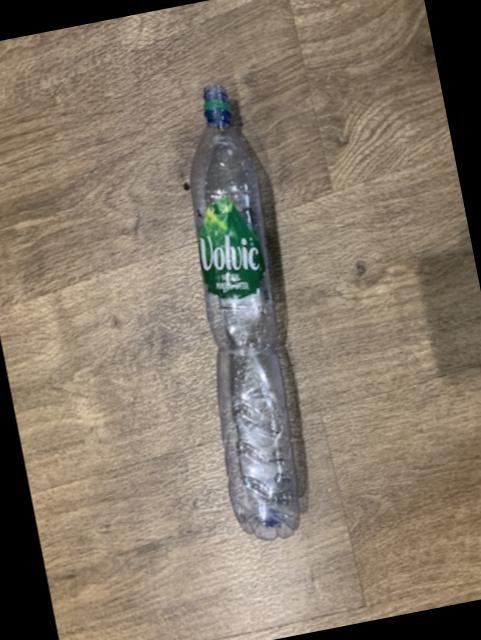plastic: (192, 86, 300, 542)
